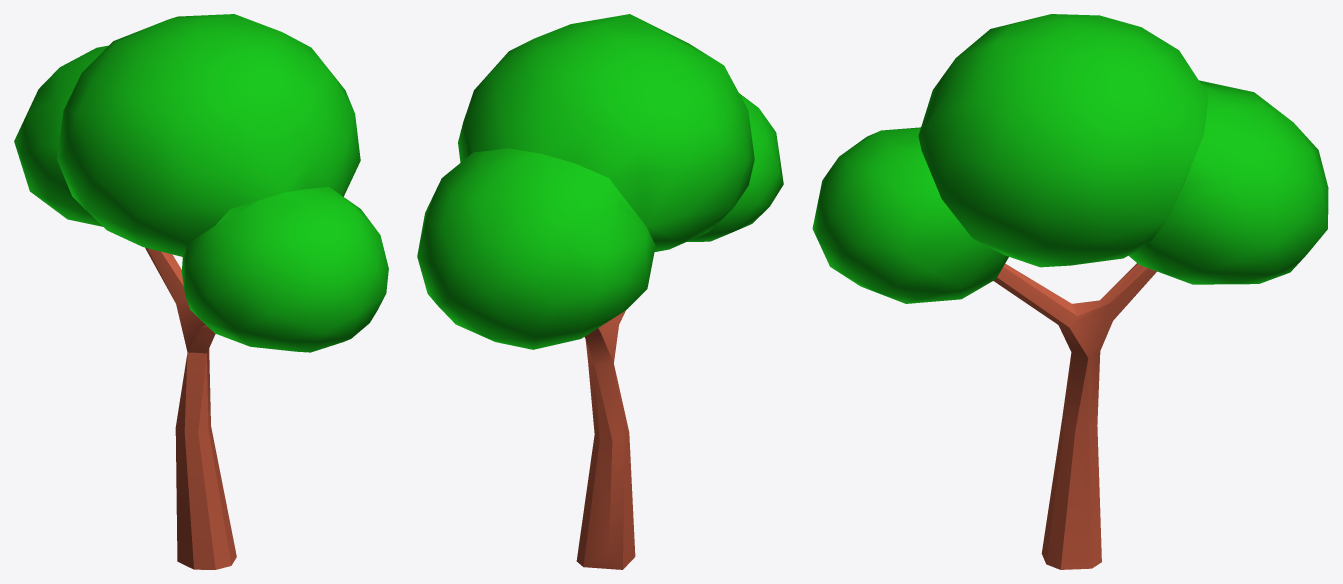
The model's file is tree_A_03.fbx.
3 renders of one model, left to right at view 1: azimuth 30°, elevation 25°; view 2: azimuth 150°, elevation 25°; view 3: azimuth 270°, elevation 25°, orthographic.
Parts seen in each view (by area): view 1: tree_A_03; view 2: tree_A_03; view 3: tree_A_03.
Boxes of the visible parts, x1,y1,x2,y2 form: tree_A_03: [14, 14, 388, 569]; tree_A_03: [417, 14, 783, 569]; tree_A_03: [812, 14, 1328, 569].
Bounding box in the file's own units: 112 × 219 × 192.
